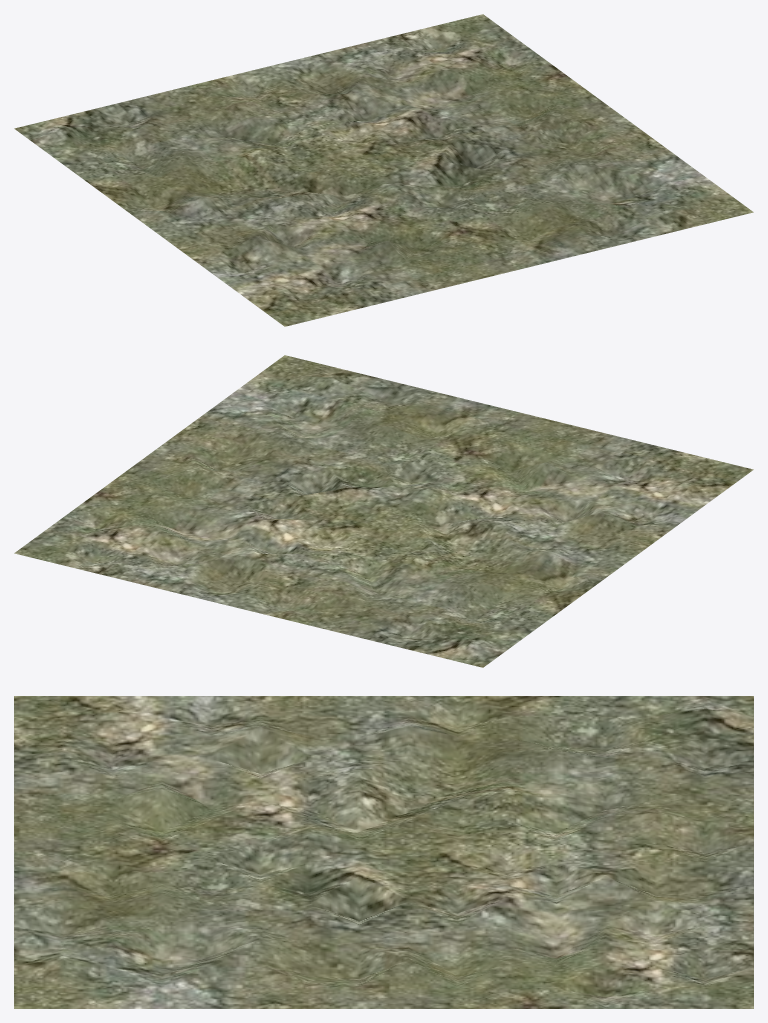
File: Ceiling.gltf
The picture shows the model from 3 angles, top to bottom: view 1: azimuth 30°, elevation 25°; view 2: azimuth 150°, elevation 25°; view 3: azimuth 270°, elevation 25°; orthographic projection. The views are drawn at different scales.
Parts seen in each view (by area): view 1: Ceiling; view 2: Ceiling; view 3: Ceiling.
Boxes of the visible parts, box(x1,y1,x2,y2) form: Ceiling: box(14, 14, 753, 326); Ceiling: box(14, 355, 753, 667); Ceiling: box(14, 696, 753, 1008).
Size of the model in its own units: 2.17 by 0.0876 by 2.17.
1 material, 1 textured.
